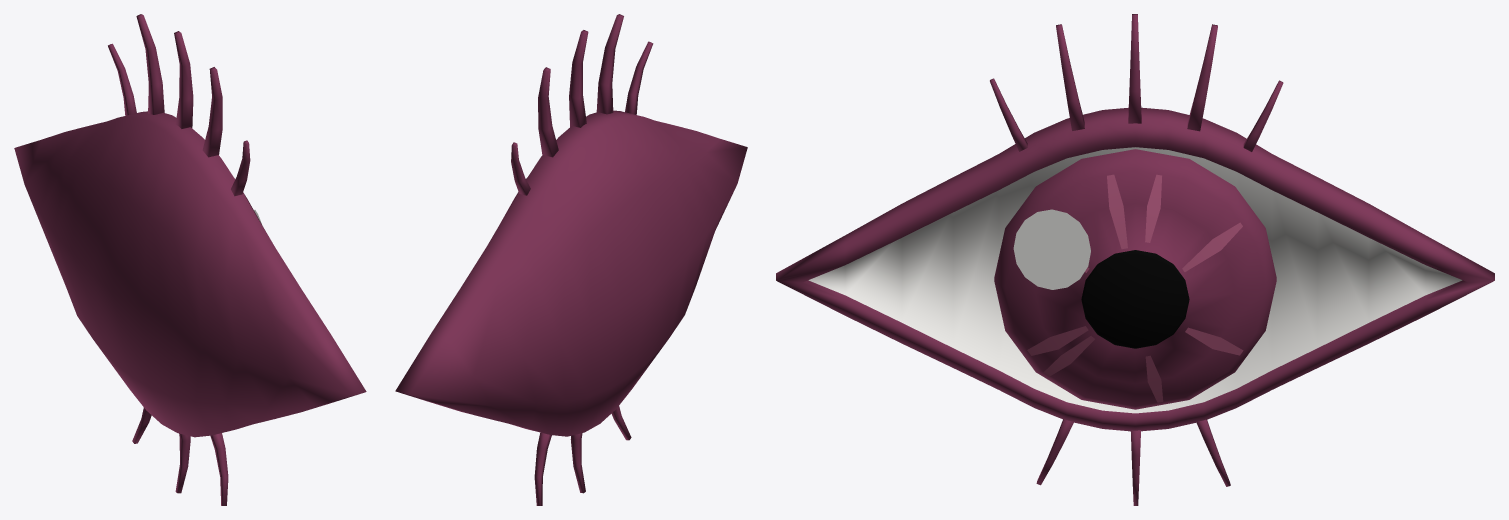
Rendered from Eye.fbx.
3 renders of one model, left to right at view 1: azimuth 30°, elevation 25°; view 2: azimuth 150°, elevation 25°; view 3: azimuth 270°, elevation 25°, orthographic. The views are drawn at different scales.
Parts seen in each view (by area): view 1: Circle; view 2: Circle; view 3: Circle.
Boxes of the visible parts, x1,y1,x2,y2 form: Circle: [14, 14, 366, 505]; Circle: [395, 14, 747, 505]; Circle: [776, 14, 1494, 505].
Bounding box in the file's own units: 113 × 384 × 510.
